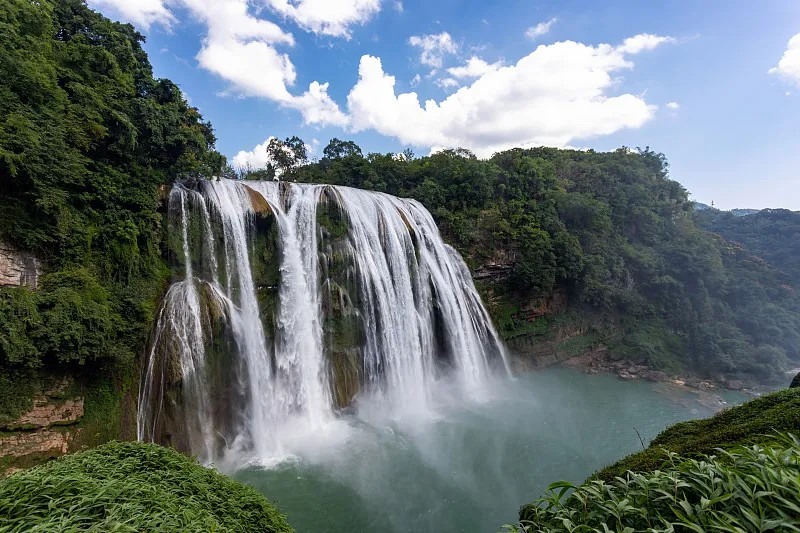Huangguoshu: (137, 177, 514, 465)
